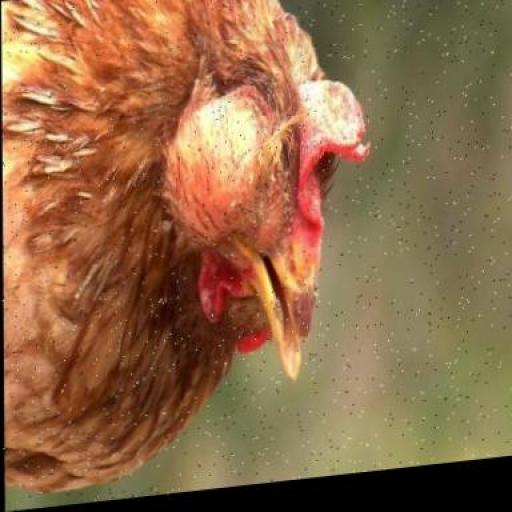disease: (149, 50, 290, 267), (306, 57, 373, 165)
